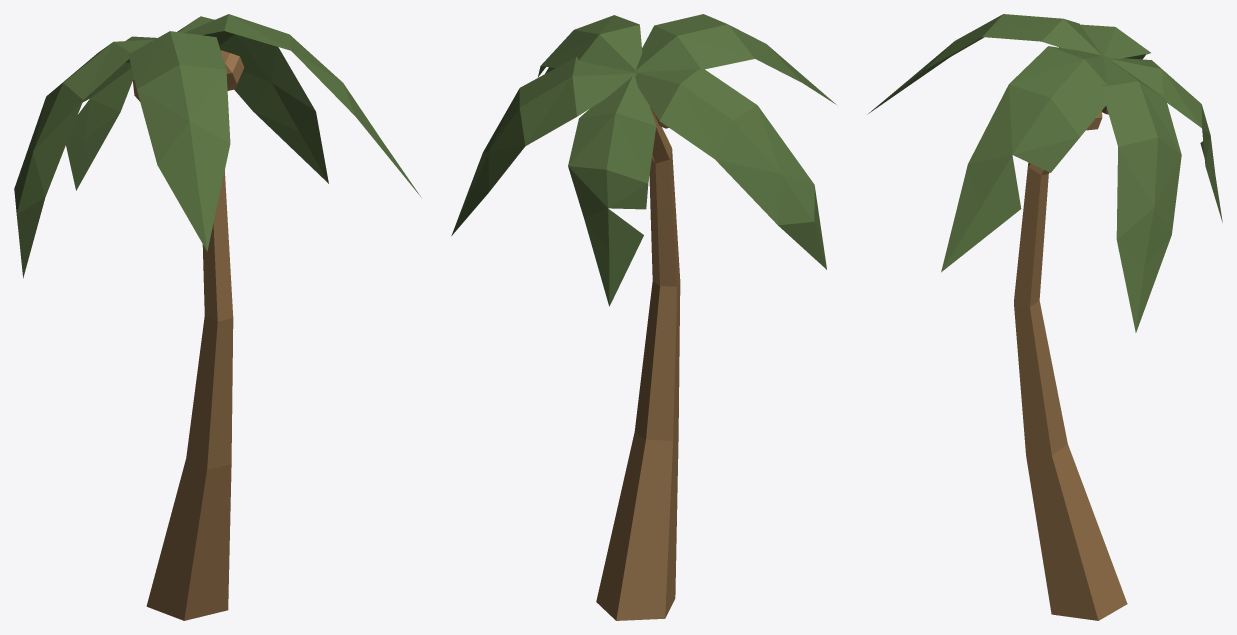
Rendered from tree_palm01.fbx.
The picture shows the model from 3 angles, left to right: view 1: azimuth 30°, elevation 25°; view 2: azimuth 150°, elevation 25°; view 3: azimuth 270°, elevation 25°; orthographic projection. The views are drawn at different scales.
Visible parts, largest first — view 1: tree_palm_01; view 2: tree_palm_01; view 3: tree_palm_01.
Boxes of the visible parts, <box> form: tree_palm_01: <box>14,14,421,620</box>; tree_palm_01: <box>451,14,837,620</box>; tree_palm_01: <box>867,14,1222,620</box>.
Size of the model in its own units: 4.19 by 3.84 by 6.78.
